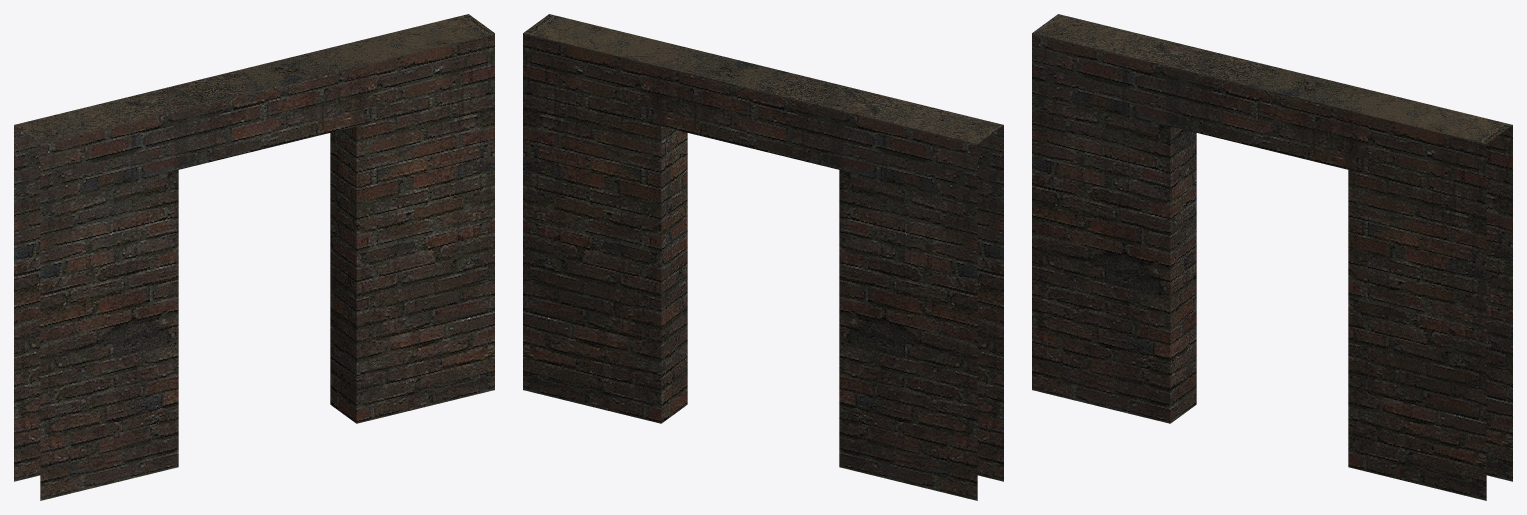
File: doorway_hs_1_wide.glb
The picture shows the model from 3 angles, left to right: view 1: azimuth 30°, elevation 25°; view 2: azimuth 150°, elevation 25°; view 3: azimuth 330°, elevation 25°; orthographic projection.
Visible parts, largest first — view 1: doorway_hs_1_wide; view 2: doorway_hs_1_wide; view 3: doorway_hs_1_wide.
Boxes of the visible parts, x1=… form: doorway_hs_1_wide: x1=14, y1=14, x2=494, y2=500; doorway_hs_1_wide: x1=523, y1=14, x2=1003, y2=500; doorway_hs_1_wide: x1=1032, y1=14, x2=1512, y2=500.
Size of the model in its own units: 4 by 3 by 0.4.
Materials: 2 (2 with a texture image).
